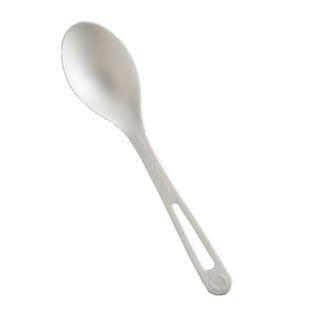PS: (61, 21, 232, 297)
